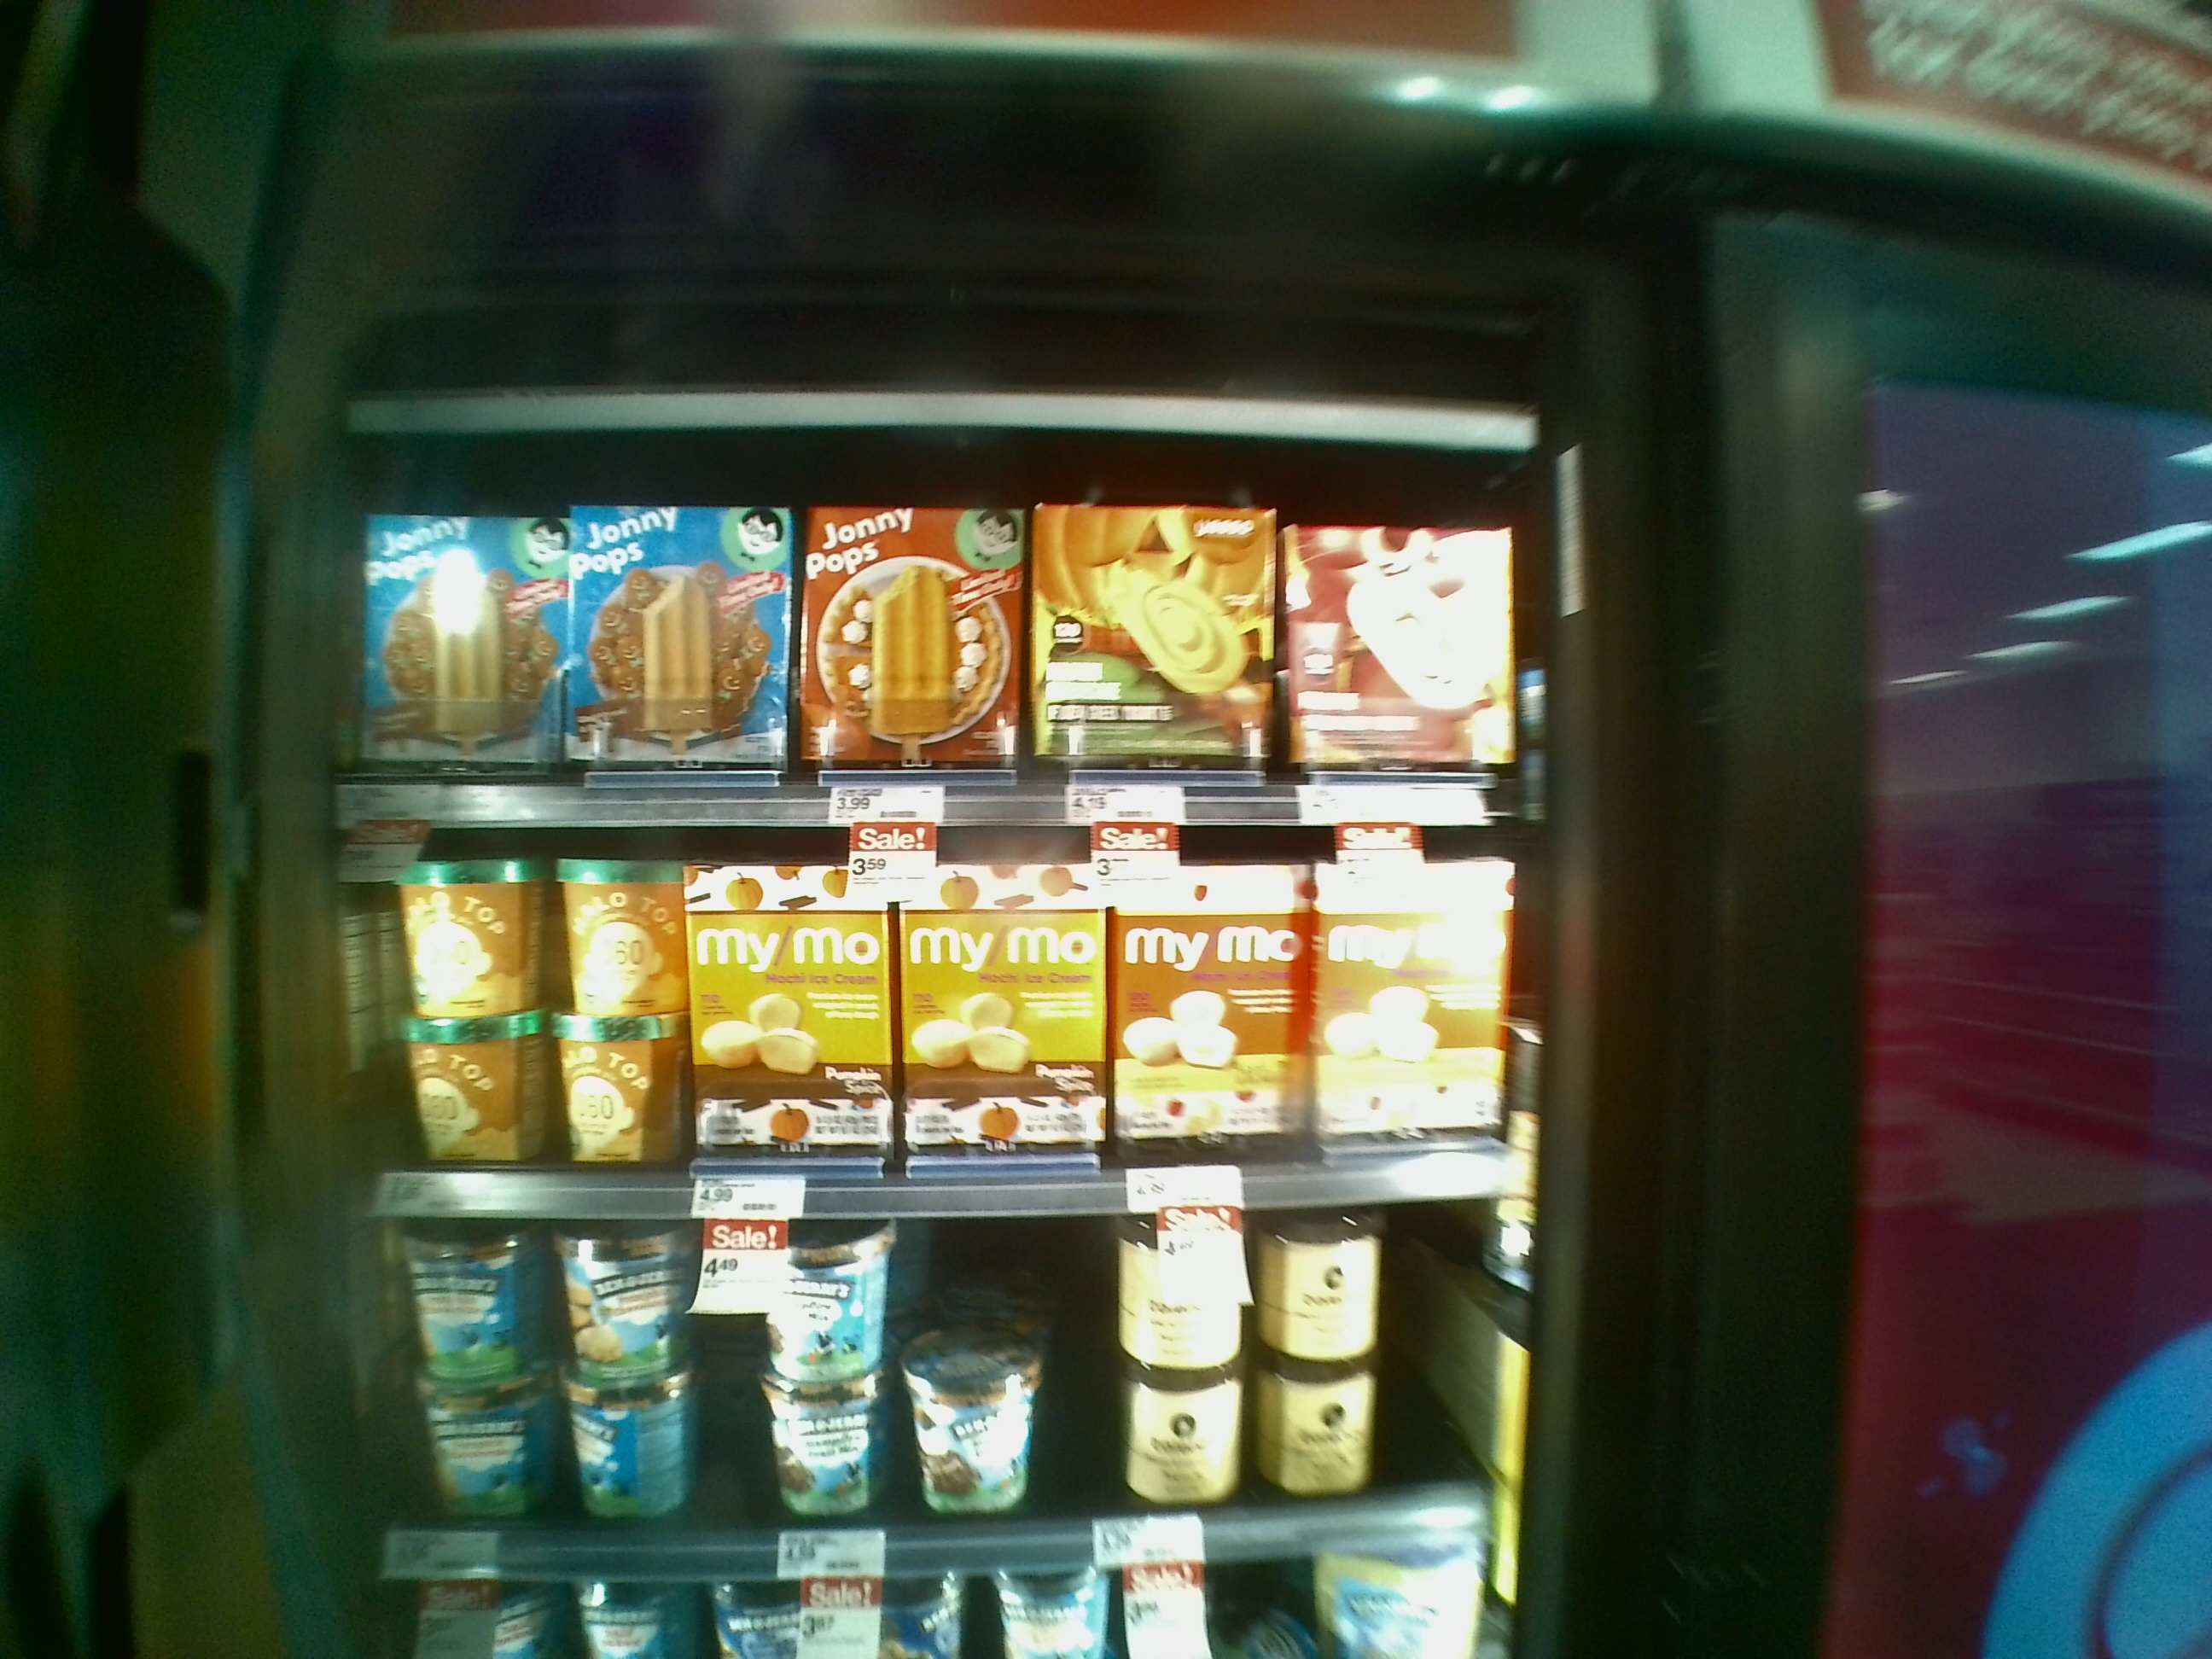shelf: (289, 823, 1529, 1220), (286, 1182, 1524, 1565), (319, 450, 1545, 833)
